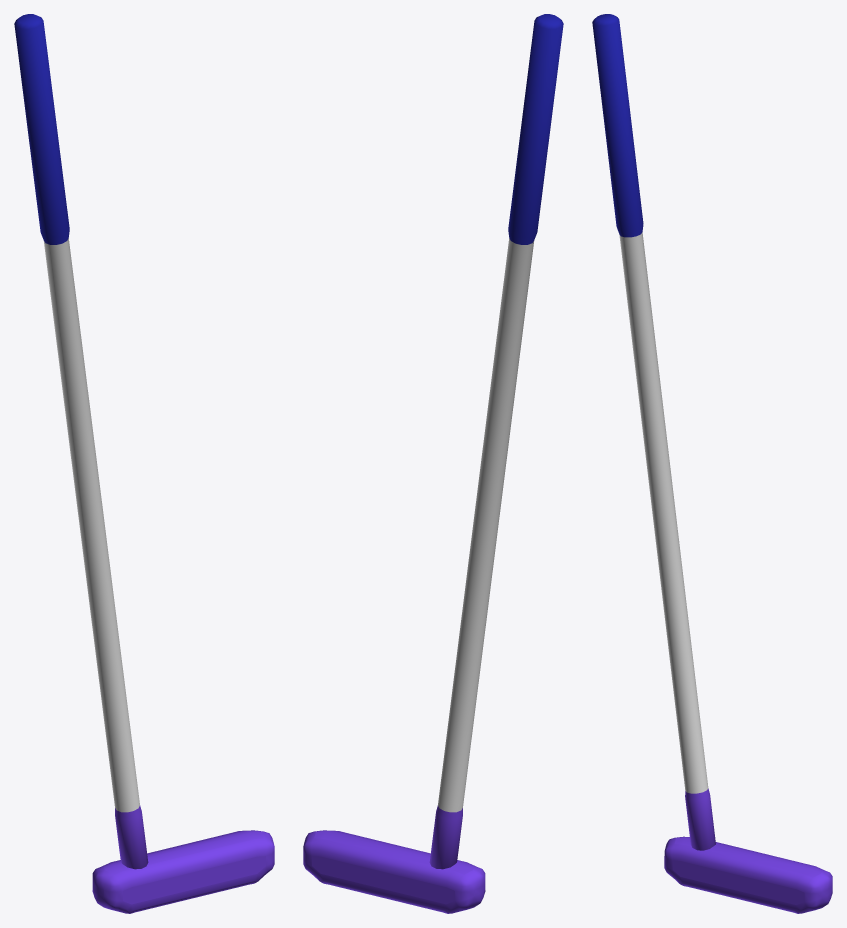
File: Putter.glb
The picture shows the model from 3 angles, left to right: view 1: azimuth 30°, elevation 25°; view 2: azimuth 150°, elevation 25°; view 3: azimuth 330°, elevation 25°; orthographic projection. The views are drawn at different scales.
Visible parts, largest first — view 1: Golf Club Shaft, Golf Club Head; view 2: Golf Club Shaft, Golf Club Head; view 3: Golf Club Shaft, Golf Club Head.
Boxes of the visible parts, x1,y1,x2,y2 form: Golf Club Shaft: [14, 14, 148, 869]; Golf Club Head: [92, 830, 274, 913]; Golf Club Shaft: [429, 14, 563, 869]; Golf Club Head: [303, 830, 485, 913]; Golf Club Shaft: [592, 14, 715, 850]; Golf Club Head: [664, 836, 832, 913].
Bounding box in the file's own units: 0.2331 × 0.8001 × 0.0345.
